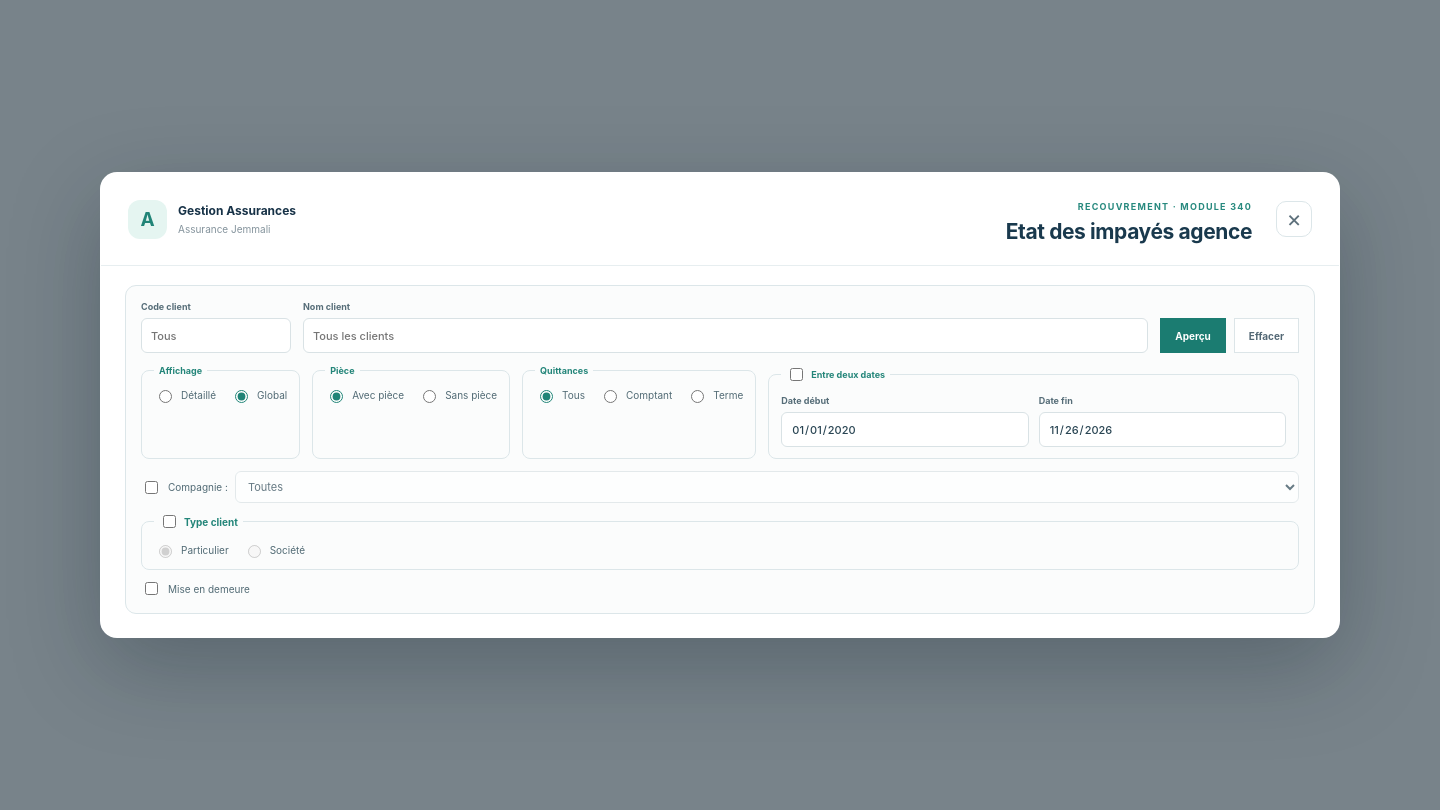
Test case: the mémoire of a client is sent by email with its PDF: the address offered is the one of the client file
Type "91" into the field labelled "Code client" at [216, 336], box 141,318 -> 291,353
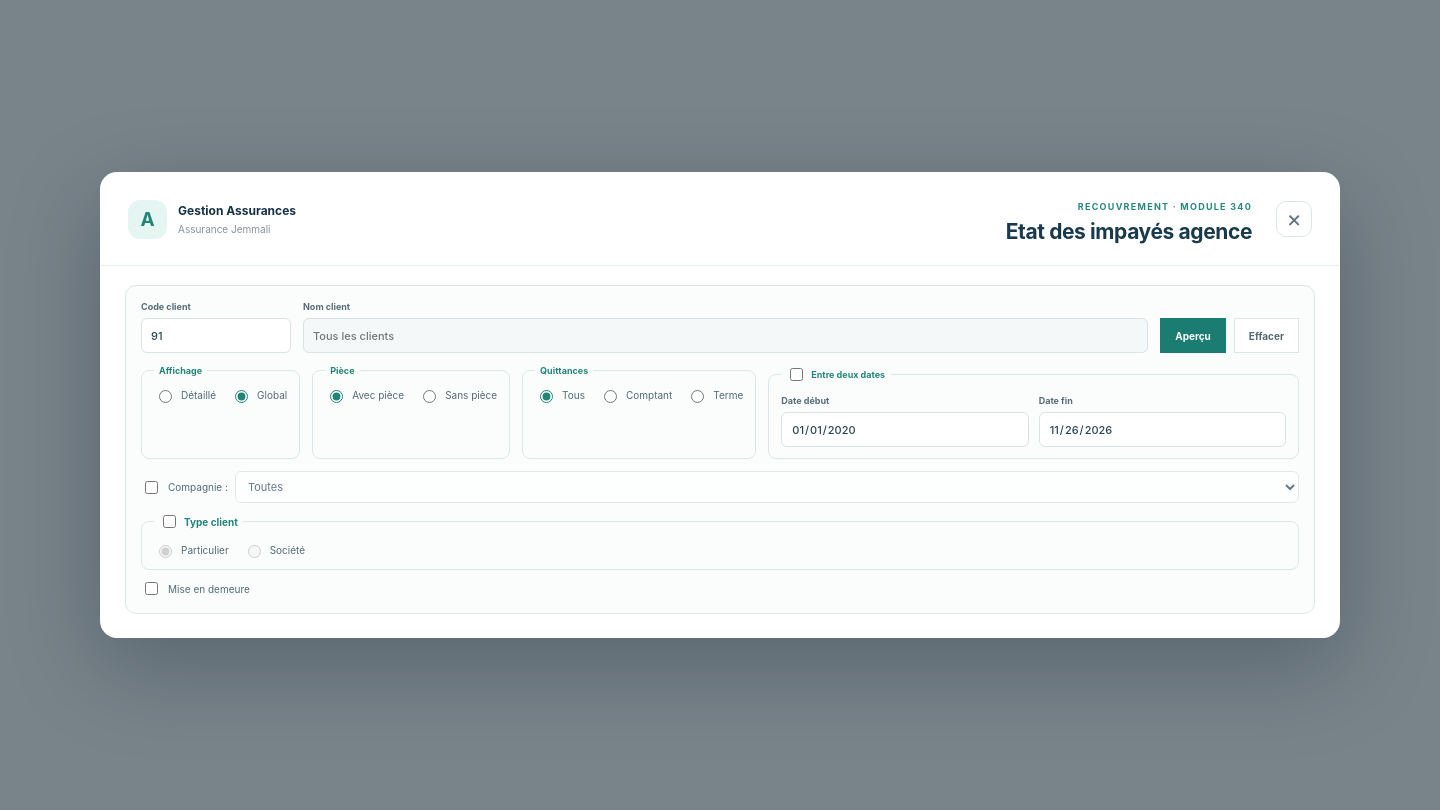
Click the button "Aperçu" at [1193, 336], box 1160,318 -> 1226,353
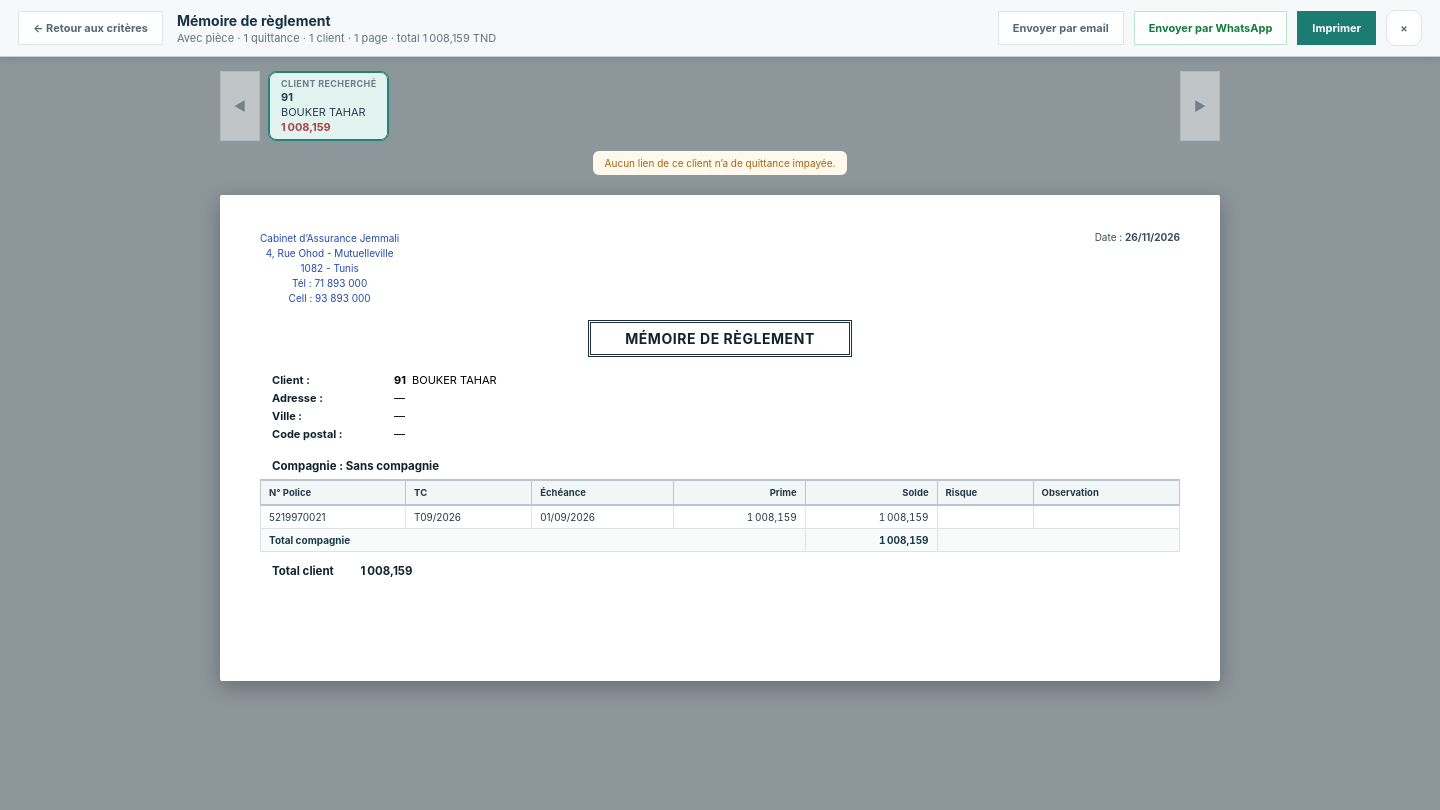
Click the button "Envoyer par email" at [1061, 28], box 998,11 -> 1124,45
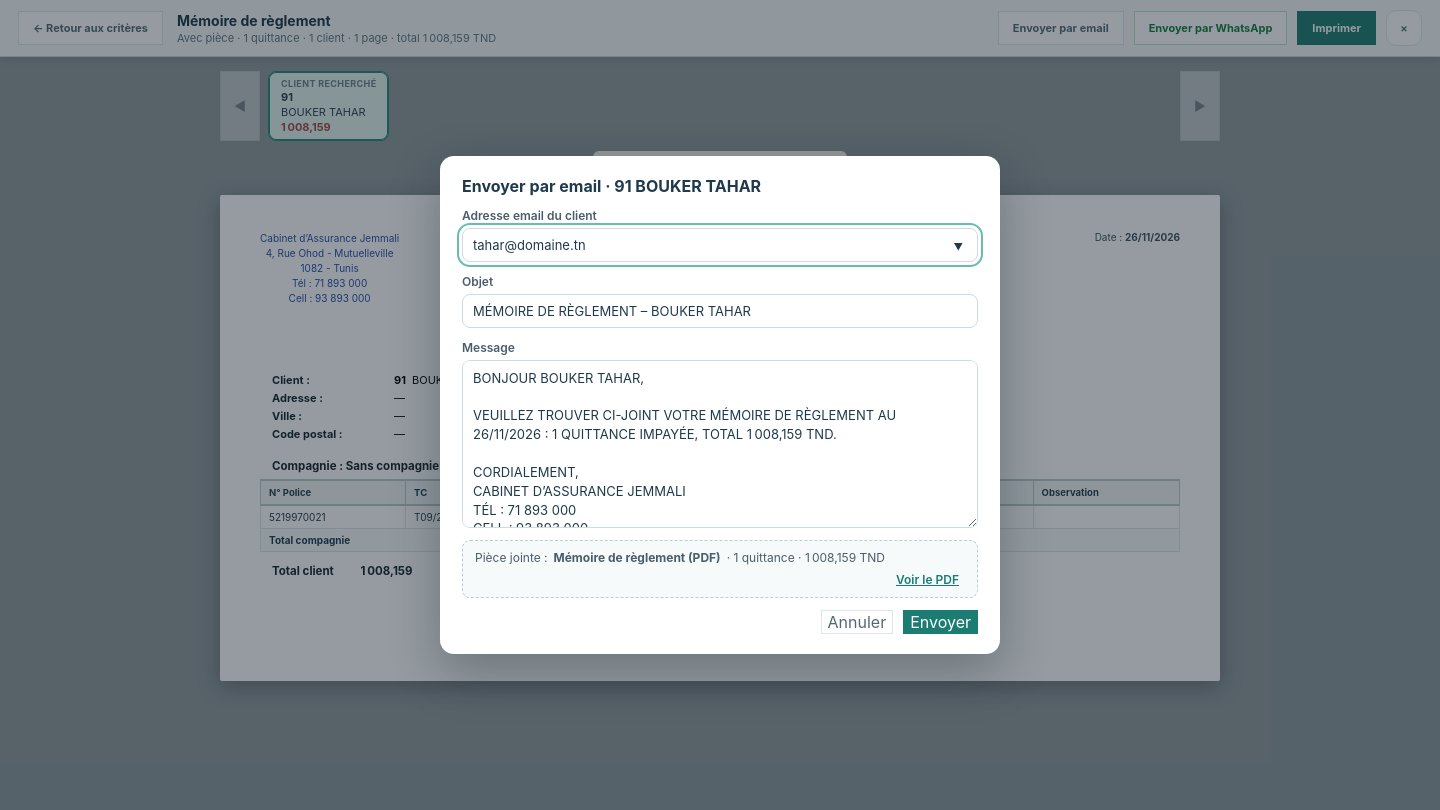
Result: the field showing "tahar@domaine.tn" is shown at 462,228 -> 978,262
Click the button "Envoyer" at [941, 622], box 903,610 -> 978,634
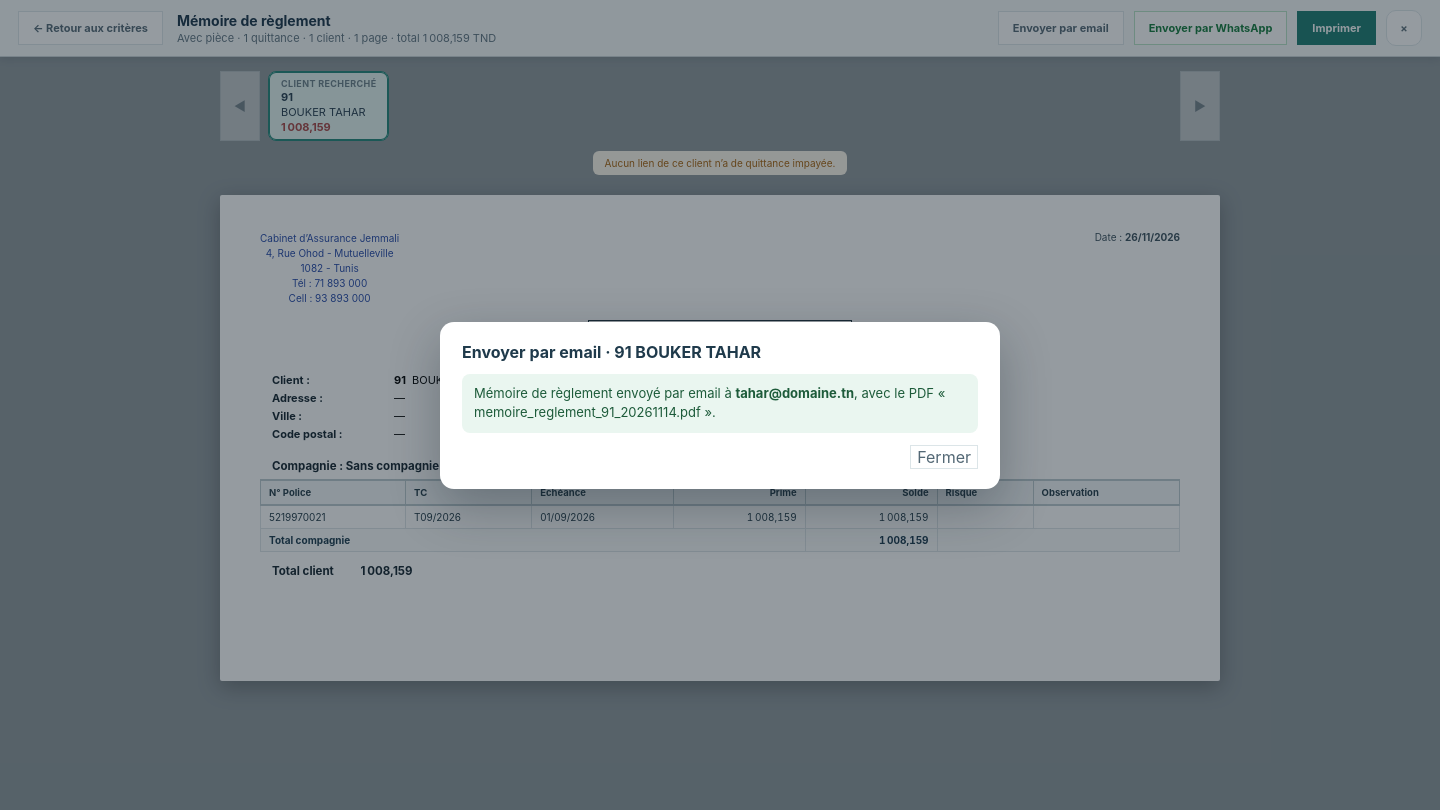
Result: the message shows "envoyé par email à tahar@domaine.tn" at 462,374 -> 978,432
